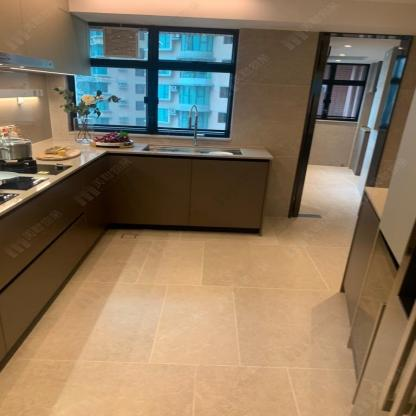Exhaust Fan: (103, 27, 140, 58)
Exhaust Hood: (0, 51, 53, 70)
Faucet: (185, 102, 203, 145)
Sink: (130, 141, 256, 157)
Stove: (0, 157, 87, 179)
